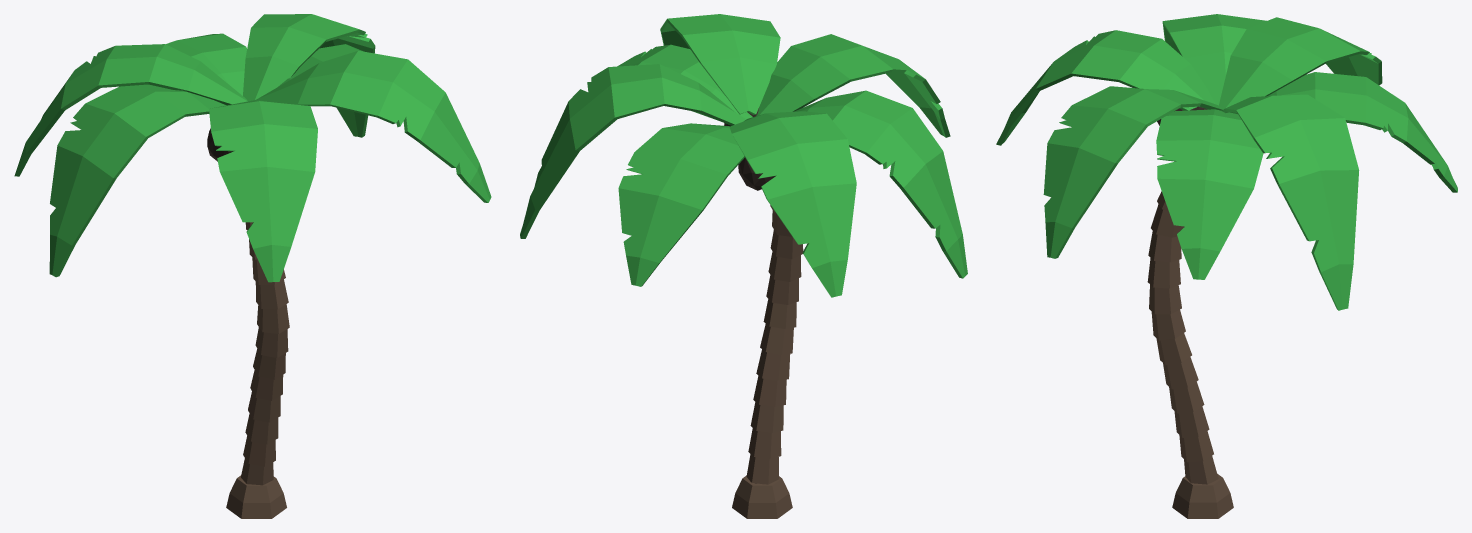
File: tree1.fbx
3 views of the same model, side by side, from view 1: azimuth 30°, elevation 25°; view 2: azimuth 150°, elevation 25°; view 3: azimuth 270°, elevation 25° (orthographic).
Visible parts, largest first — view 1: Palm_Tree; view 2: Palm_Tree; view 3: Palm_Tree.
Boxes of the visible parts, left/top/right/bottom form: Palm_Tree: left=14, top=14, right=491, bottom=518; Palm_Tree: left=520, top=14, right=967, bottom=518; Palm_Tree: left=996, top=14, right=1457, bottom=518.
Size of the model in its own units: 703 by 735 by 687.
